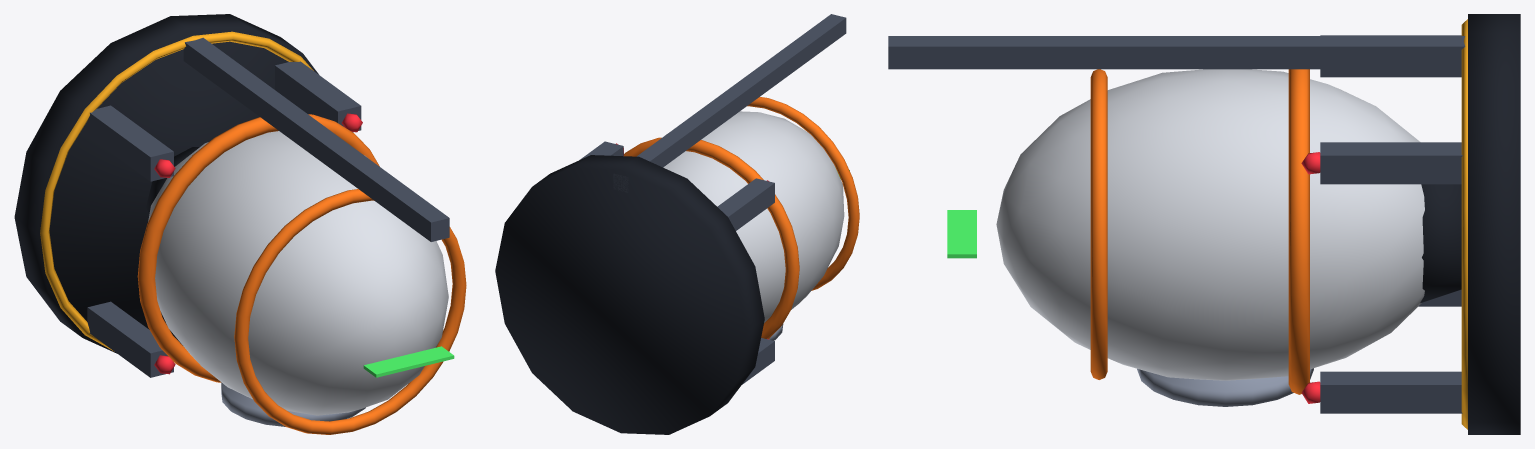
The model's file is shooter-pod.glb.
The picture shows the model from 3 angles, left to right: view 1: azimuth 30°, elevation 25°; view 2: azimuth 150°, elevation 25°; view 3: azimuth 270°, elevation 25°; orthographic projection. The views are drawn at different scales.
Visible parts, largest first — view 1: Model Mesh; view 2: Model Mesh; view 3: Model Mesh.
Boxes of the visible parts, box(x1,y1,x2,y2) form: Model Mesh: box(14, 14, 466, 434); Model Mesh: box(495, 14, 859, 434); Model Mesh: box(888, 14, 1520, 434).
Size of the model in its own units: 2 by 2 by 3.
2 materials, 2 textured.
